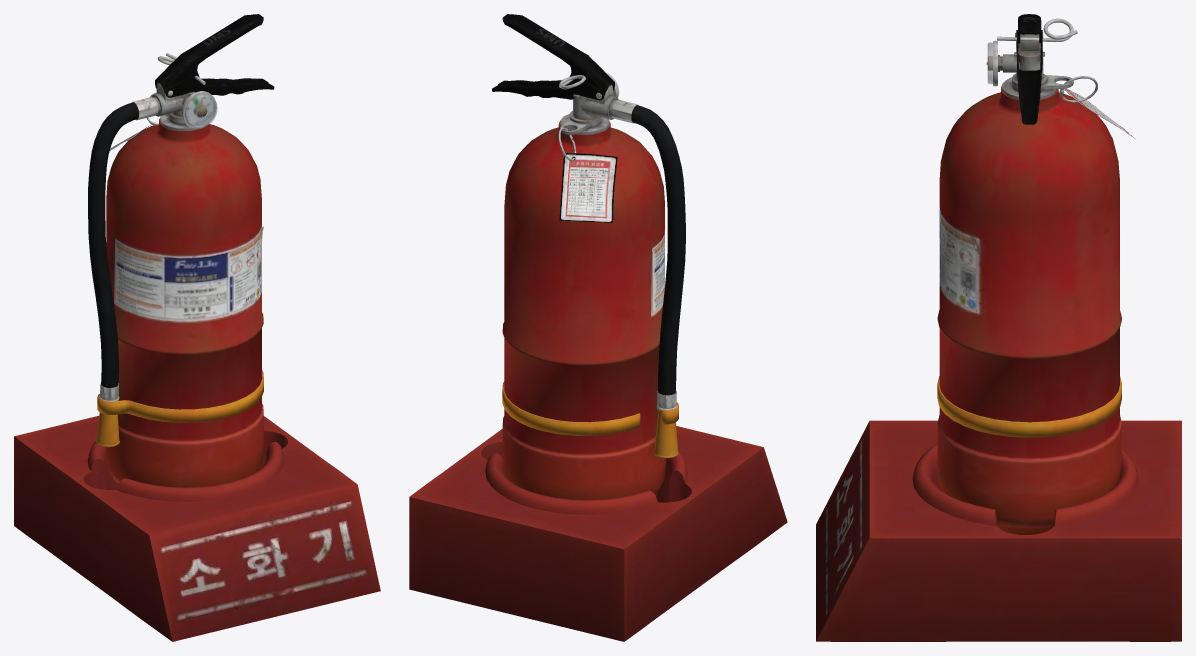
File: fire-extinguisher-cc0.glb
The picture shows the model from 3 angles, left to right: view 1: azimuth 30°, elevation 25°; view 2: azimuth 150°, elevation 25°; view 3: azimuth 270°, elevation 25°; orthographic projection. The views are drawn at different scales.
Parts seen in each view (by area): view 1: korean_fire_extinguisher_01; view 2: korean_fire_extinguisher_01; view 3: korean_fire_extinguisher_01.
Part boxes in pixels (<box>): korean_fire_extinguisher_01: <box>14,14,380,641</box>; korean_fire_extinguisher_01: <box>409,14,787,641</box>; korean_fire_extinguisher_01: <box>816,14,1181,641</box>.
Size of the model in its own units: 0.2801 by 0.6592 by 0.3675.
Materials: 3 (3 with a texture image).
